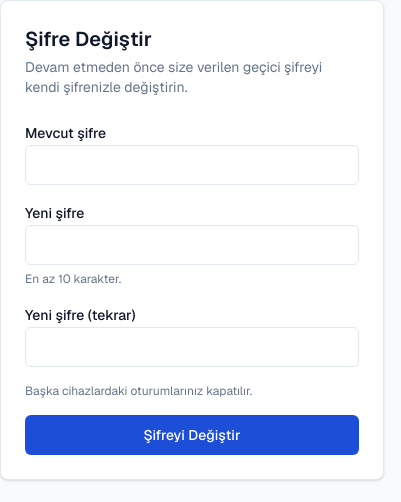
ChangePasswordForm › does not send the same password again
Type "Temp-Password-1" into the password field labelled "Mevcut şifre" at (192, 165), box [25, 145, 359, 185]
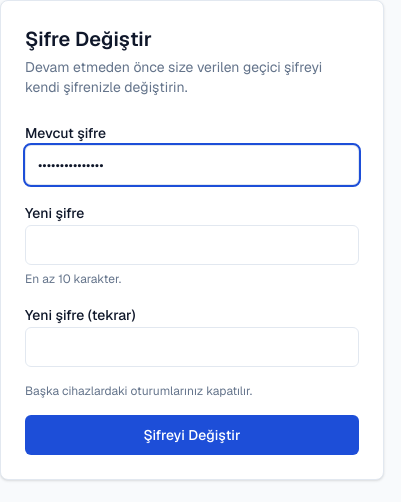
Type "Temp-Password-1" into the password field labelled "Yeni şifre" at (192, 245), box [25, 225, 359, 265]
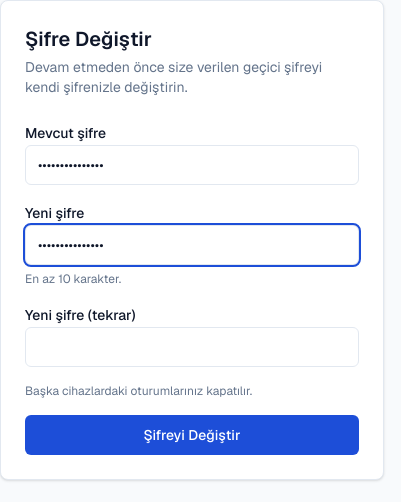
Type "Temp-Password-1" into the password field labelled "Yeni şifre (tekrar)" at (192, 347), box [25, 327, 359, 367]
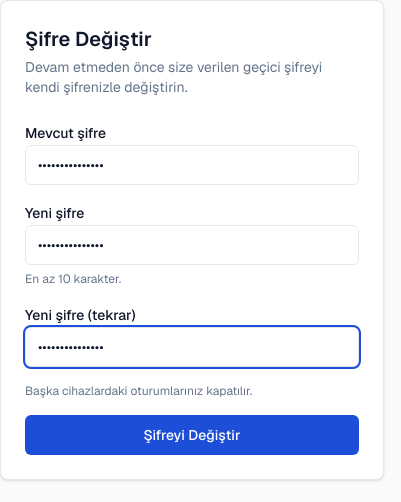
Click the button "Şifreyi Değiştir" at (192, 435), box [25, 415, 359, 455]
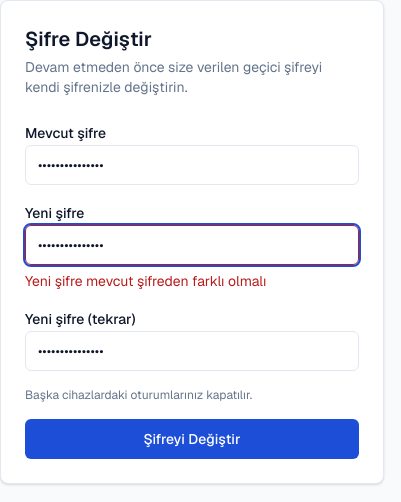
Check: the text "Yeni şifre mevcut şifreden farklı olmalı" is shown, box [25, 272, 266, 290]
